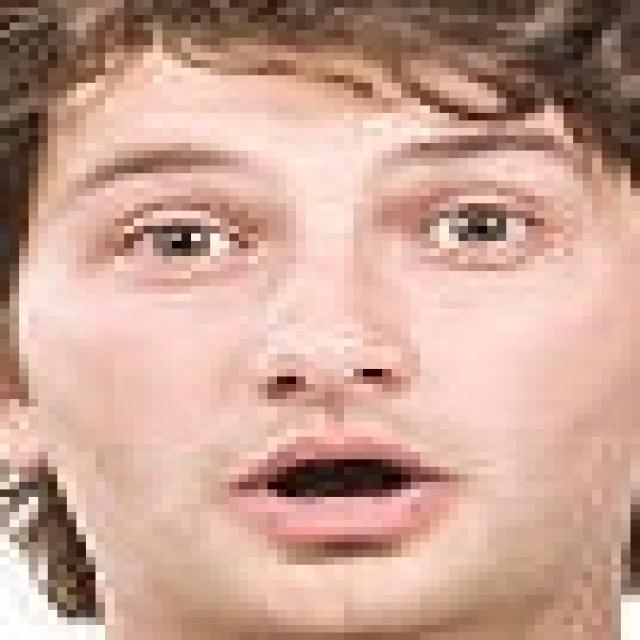Anxiety: (17, 44, 630, 632)
